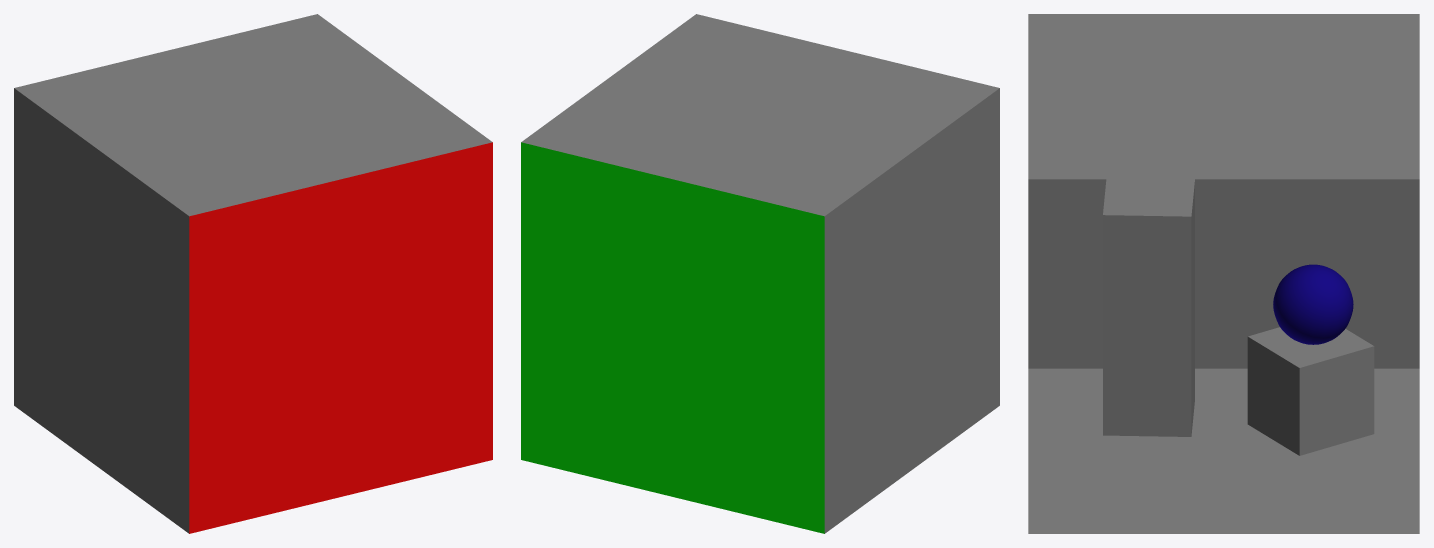
File: cornellSphere.obj
The picture shows the model from 3 angles, left to right: view 1: azimuth 30°, elevation 25°; view 2: azimuth 150°, elevation 25°; view 3: azimuth 270°, elevation 25°; orthographic projection. The views are drawn at different scales.
Visible parts, largest first — view 1: group1 polySurface4, group1 polySurface3; view 2: group1 polySurface4, group1 polySurface2; view 3: group1 polySurface4, group1 pCube2, group1 pCube3, pSphere1.
Part boxes in pixels (x1=…): group1 polySurface4: x1=14, y1=14, x2=492, y2=533; group1 polySurface3: x1=189, y1=142, x2=492, y2=533; group1 polySurface4: x1=521, y1=14, x2=999, y2=533; group1 polySurface2: x1=521, y1=142, x2=824, y2=533; group1 polySurface4: x1=1028, y1=14, x2=1419, y2=533; group1 pCube2: x1=1103, y1=179, x2=1194, y2=436; group1 pCube3: x1=1247, y1=327, x2=1374, y2=455; pSphere1: x1=1273, y1=264, x2=1353, y2=344.
Size of the model in its own units: 1.07 by 1.07 by 1.07.
